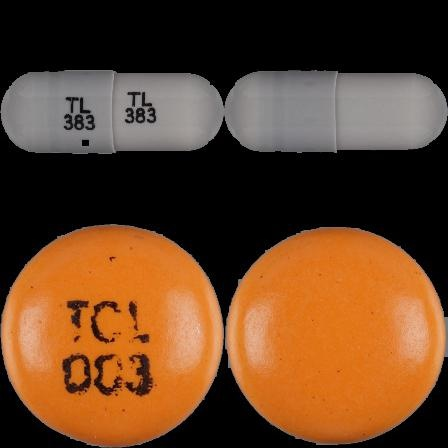67544-581: (0, 0, 224, 224)
